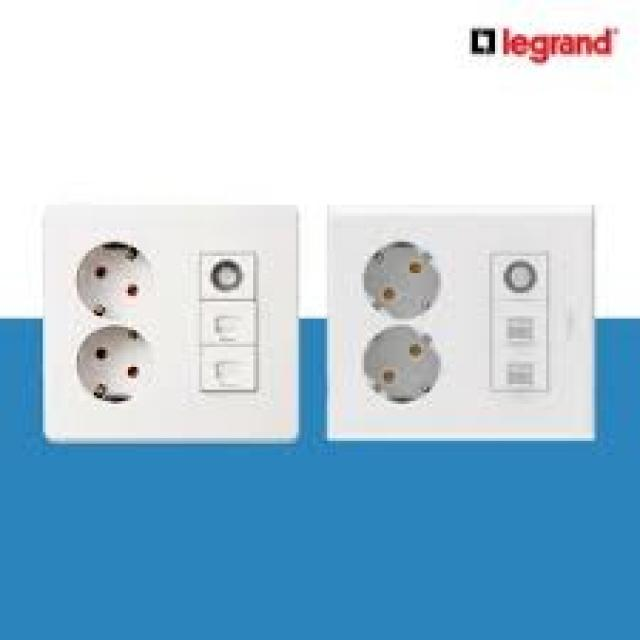typeb: (316, 168, 614, 515), (25, 173, 314, 512)
